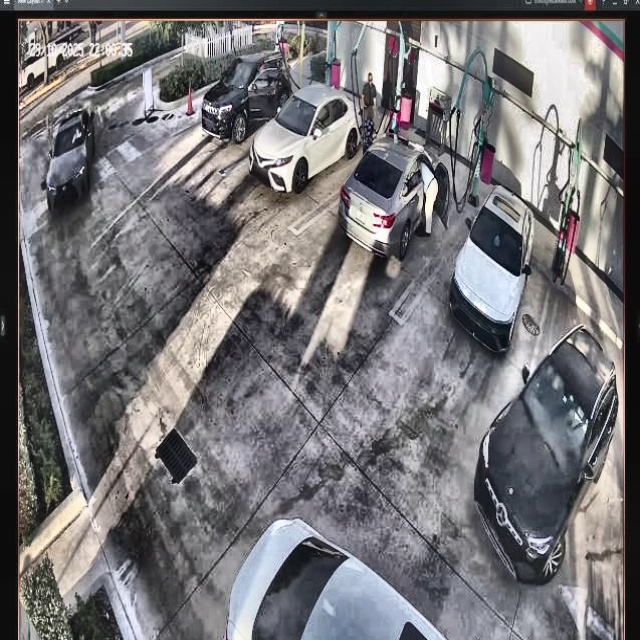Car: (339, 132, 452, 257), (453, 186, 535, 351), (250, 85, 359, 188)
